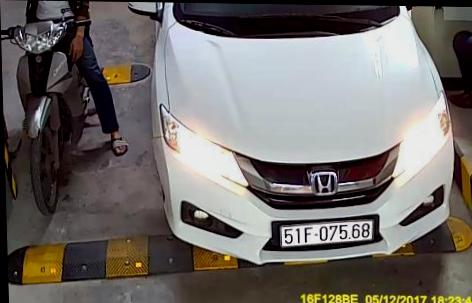License_Plate: (279, 217, 373, 249)
